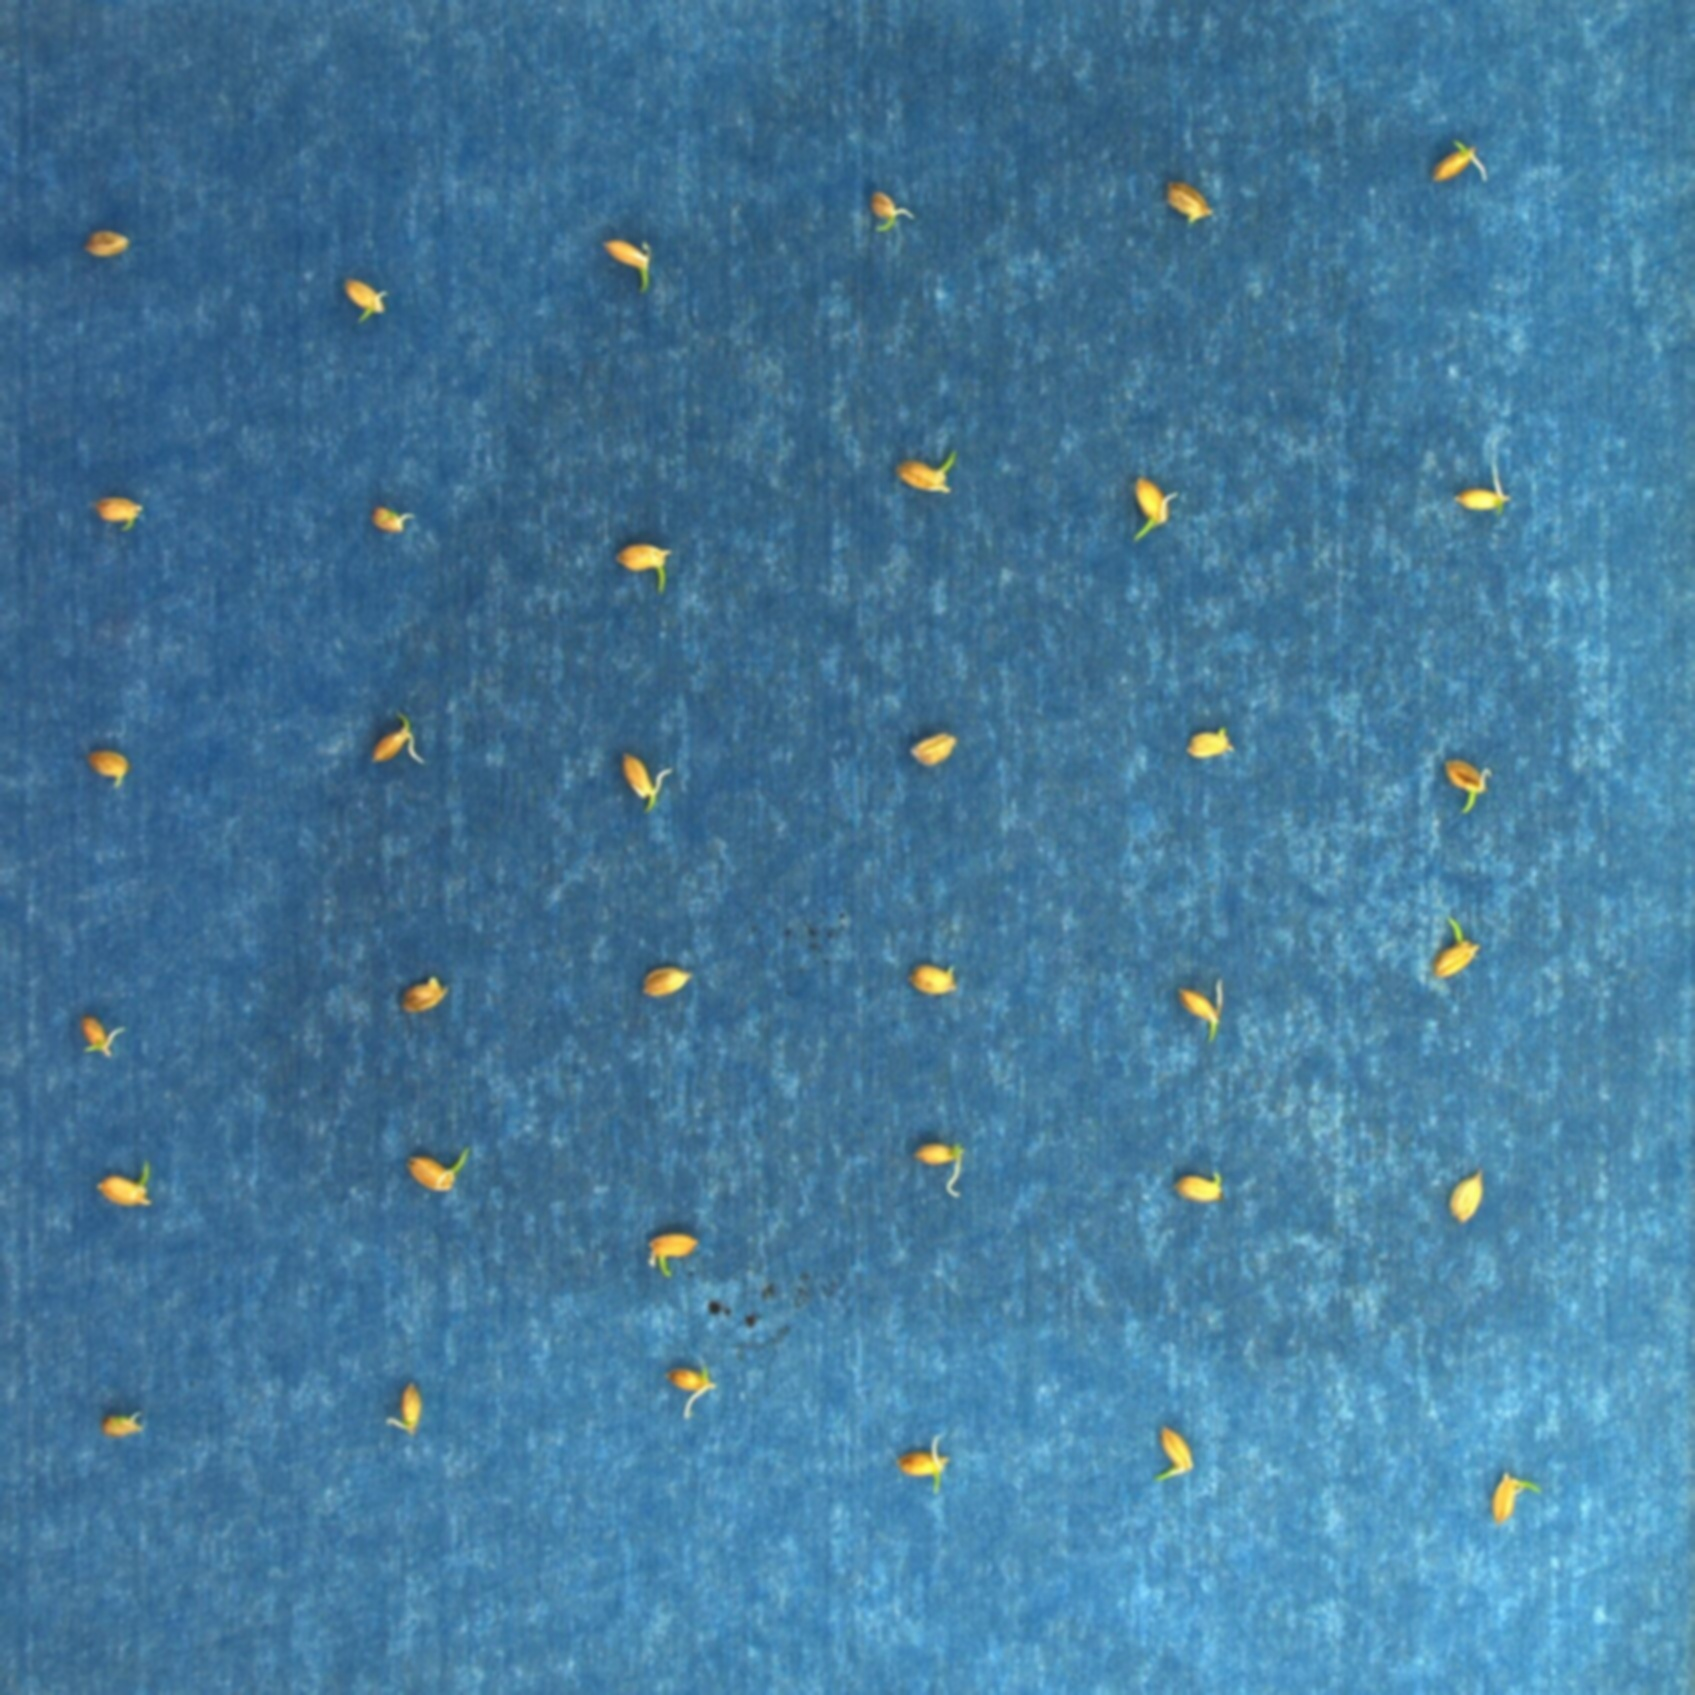not sprout: (1142, 1414, 1214, 1498), (1167, 973, 1236, 1049), (1467, 1450, 1537, 1523), (1442, 459, 1523, 522), (68, 997, 130, 1073), (653, 1364, 737, 1419), (615, 744, 672, 821), (1431, 1161, 1496, 1225), (607, 539, 689, 588), (882, 466, 964, 514), (638, 1212, 709, 1267), (329, 269, 393, 323), (380, 1381, 438, 1440), (857, 189, 914, 247), (897, 723, 962, 771), (78, 750, 141, 798), (633, 961, 698, 1007), (407, 1153, 466, 1201), (95, 1170, 161, 1212), (911, 951, 964, 1001), (1170, 1161, 1226, 1208), (1158, 180, 1209, 225), (1173, 719, 1229, 757), (397, 976, 442, 1023), (81, 227, 130, 269)
sprout: (85, 1381, 157, 1456), (1125, 477, 1180, 560), (908, 1127, 972, 1198), (1419, 910, 1487, 973), (362, 490, 424, 557), (897, 1445, 959, 1510), (1422, 130, 1495, 185), (359, 703, 418, 767), (593, 237, 649, 304), (1437, 751, 1489, 821), (90, 483, 146, 539)
